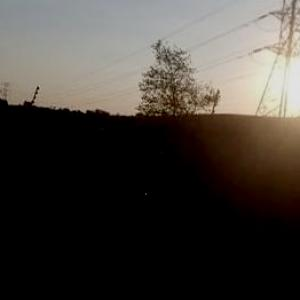follow: (95, 121, 167, 299)
